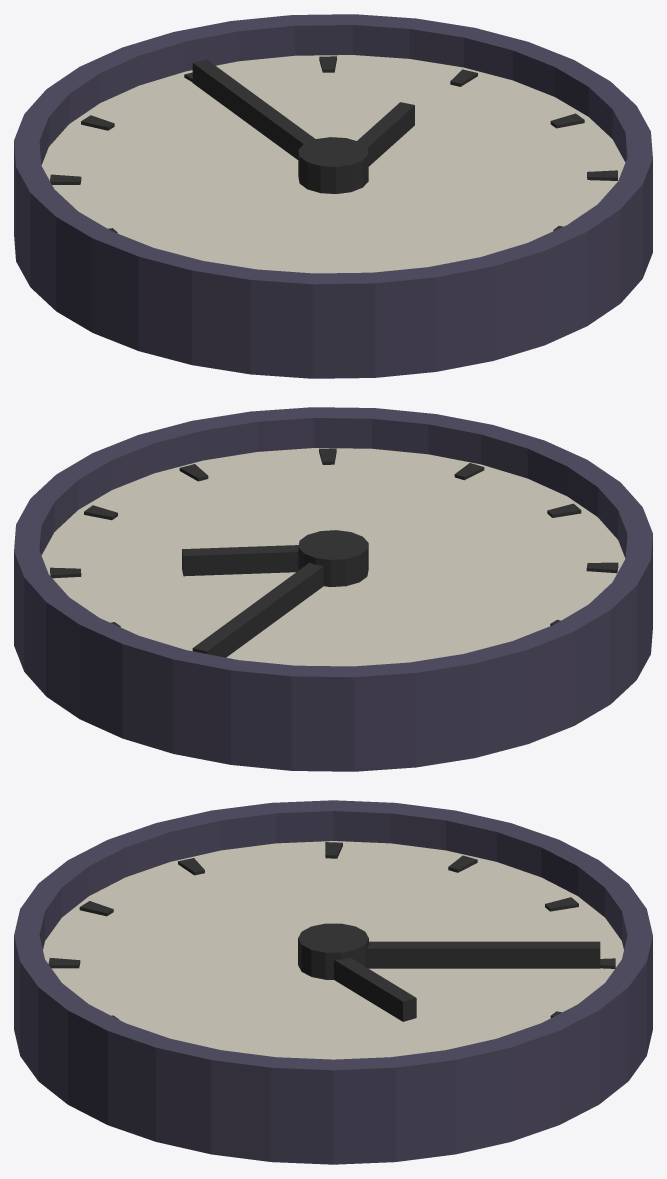
Rendered from fudge-clock-modern.glb.
3 views of the same model, one above another, from view 1: azimuth 30°, elevation 25°; view 2: azimuth 150°, elevation 25°; view 3: azimuth 270°, elevation 25° (orthographic).
Visible parts, largest first — view 1: clock; view 2: clock; view 3: clock.
Part boxes in pixels (x1,y1,x2,y2): clock: (14, 14, 652, 378); clock: (14, 407, 652, 771); clock: (14, 800, 652, 1164).
Bounding box in the file's own units: 2 × 0.3259 × 2.
